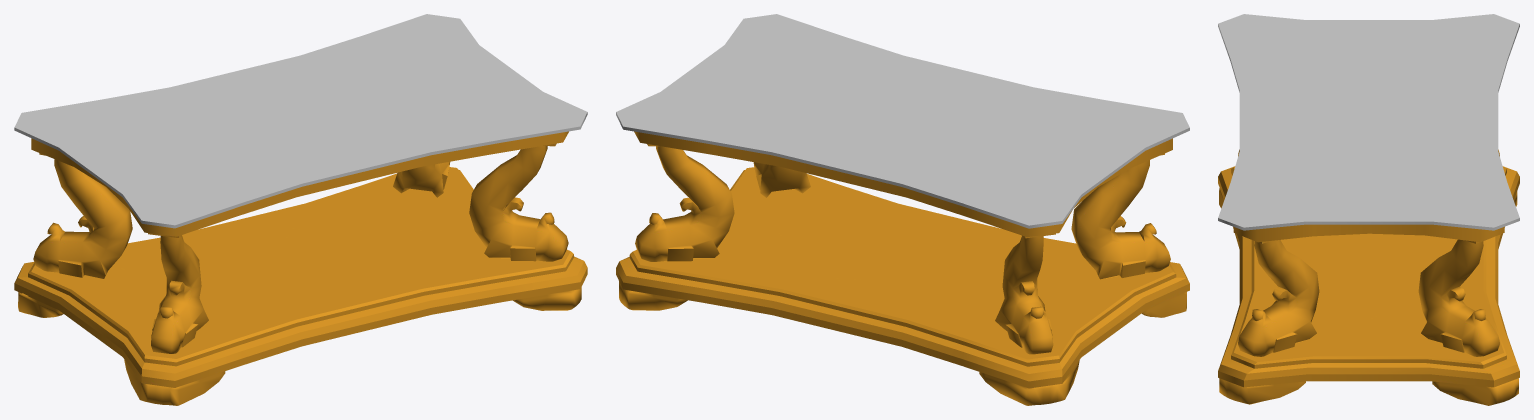
The model's file is Table01.fbx.
3 renders of one model, left to right at view 1: azimuth 30°, elevation 25°; view 2: azimuth 150°, elevation 25°; view 3: azimuth 270°, elevation 25°, orthographic.
Parts seen in each view (by area): view 1: TableCoffeeFront; view 2: TableCoffeeFront; view 3: TableCoffeeFront.
Boxes of the visible parts, <box> form: TableCoffeeFront: <box>14,14,587,405</box>; TableCoffeeFront: <box>616,14,1189,405</box>; TableCoffeeFront: <box>1218,14,1519,405</box>.
Size of the model in its own units: 1.23 by 0.4874 by 0.7342.
